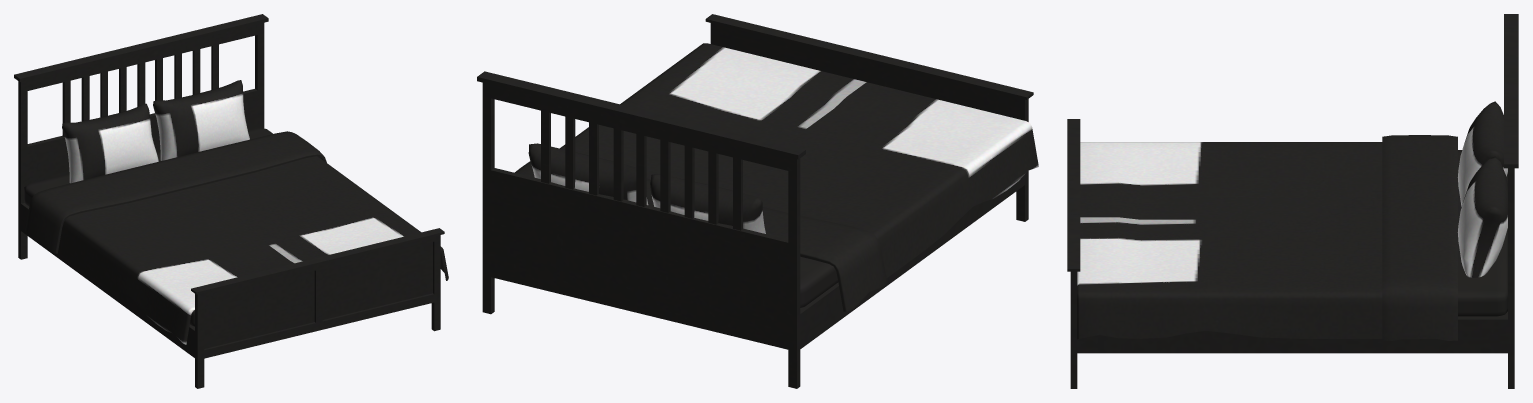
Rendered from SNES_Bed.obj.
The picture shows the model from 3 angles, left to right: view 1: azimuth 30°, elevation 25°; view 2: azimuth 150°, elevation 25°; view 3: azimuth 270°, elevation 25°; orthographic projection. The views are drawn at different scales.
Parts seen in each view (by area): view 1: headusOBJexport; view 2: headusOBJexport; view 3: headusOBJexport.
Boxes of the visible parts, x1,y1,x2,y2 form: headusOBJexport: (14,14,448,388); headusOBJexport: (477,14,1038,388); headusOBJexport: (1067,14,1518,388).
Size of the model in its own units: 19.17 by 11.98 by 21.65.
1 material, 1 textured.
